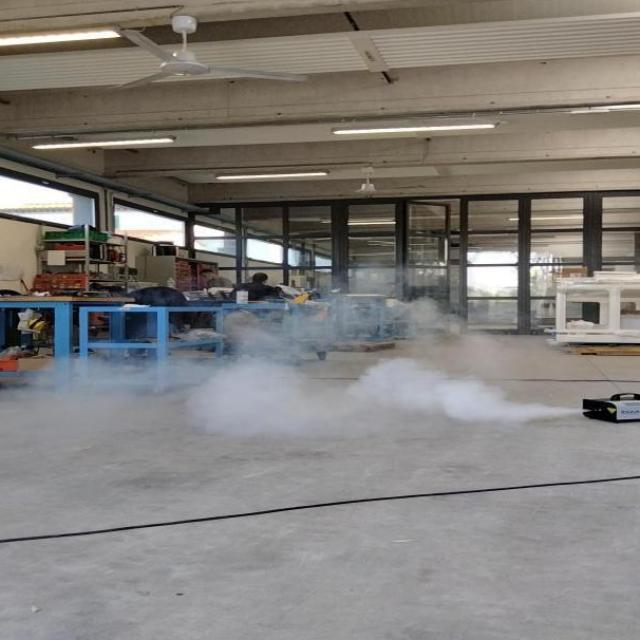fire: (180, 356, 581, 432)
